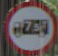Heavy Vehicles: (5, 1, 52, 43)
